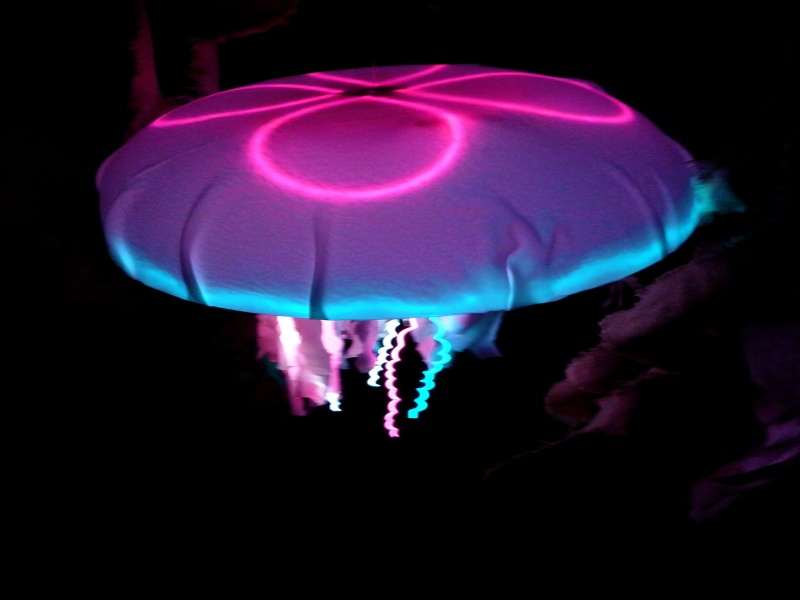Jellyfish: (46, 54, 726, 476)
